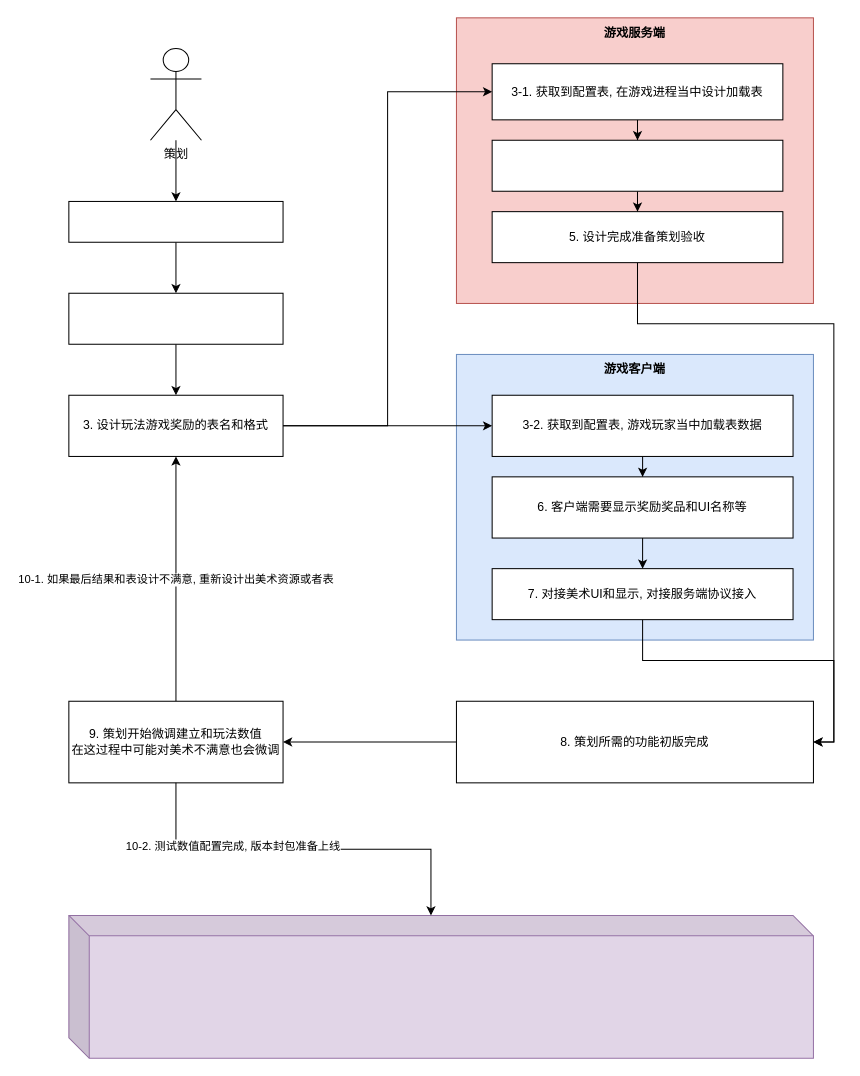
This 860x1076 diagram has some shape labels left out. The centre of each missing label's shape, as x and y in pixels:
"1. 设计需要玩法和配置, 奖励" goes at point 175,221.
"2. 规划需要美术资源和玩法流程" goes at point 175,318.
"4. 服务端只需要对表数据验证奖励发放" goes at point 637,165.
"同步上线游戏版本" goes at point 440,986.
